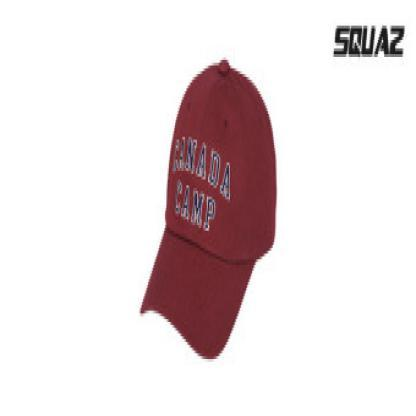cap: (134, 48, 283, 374)
